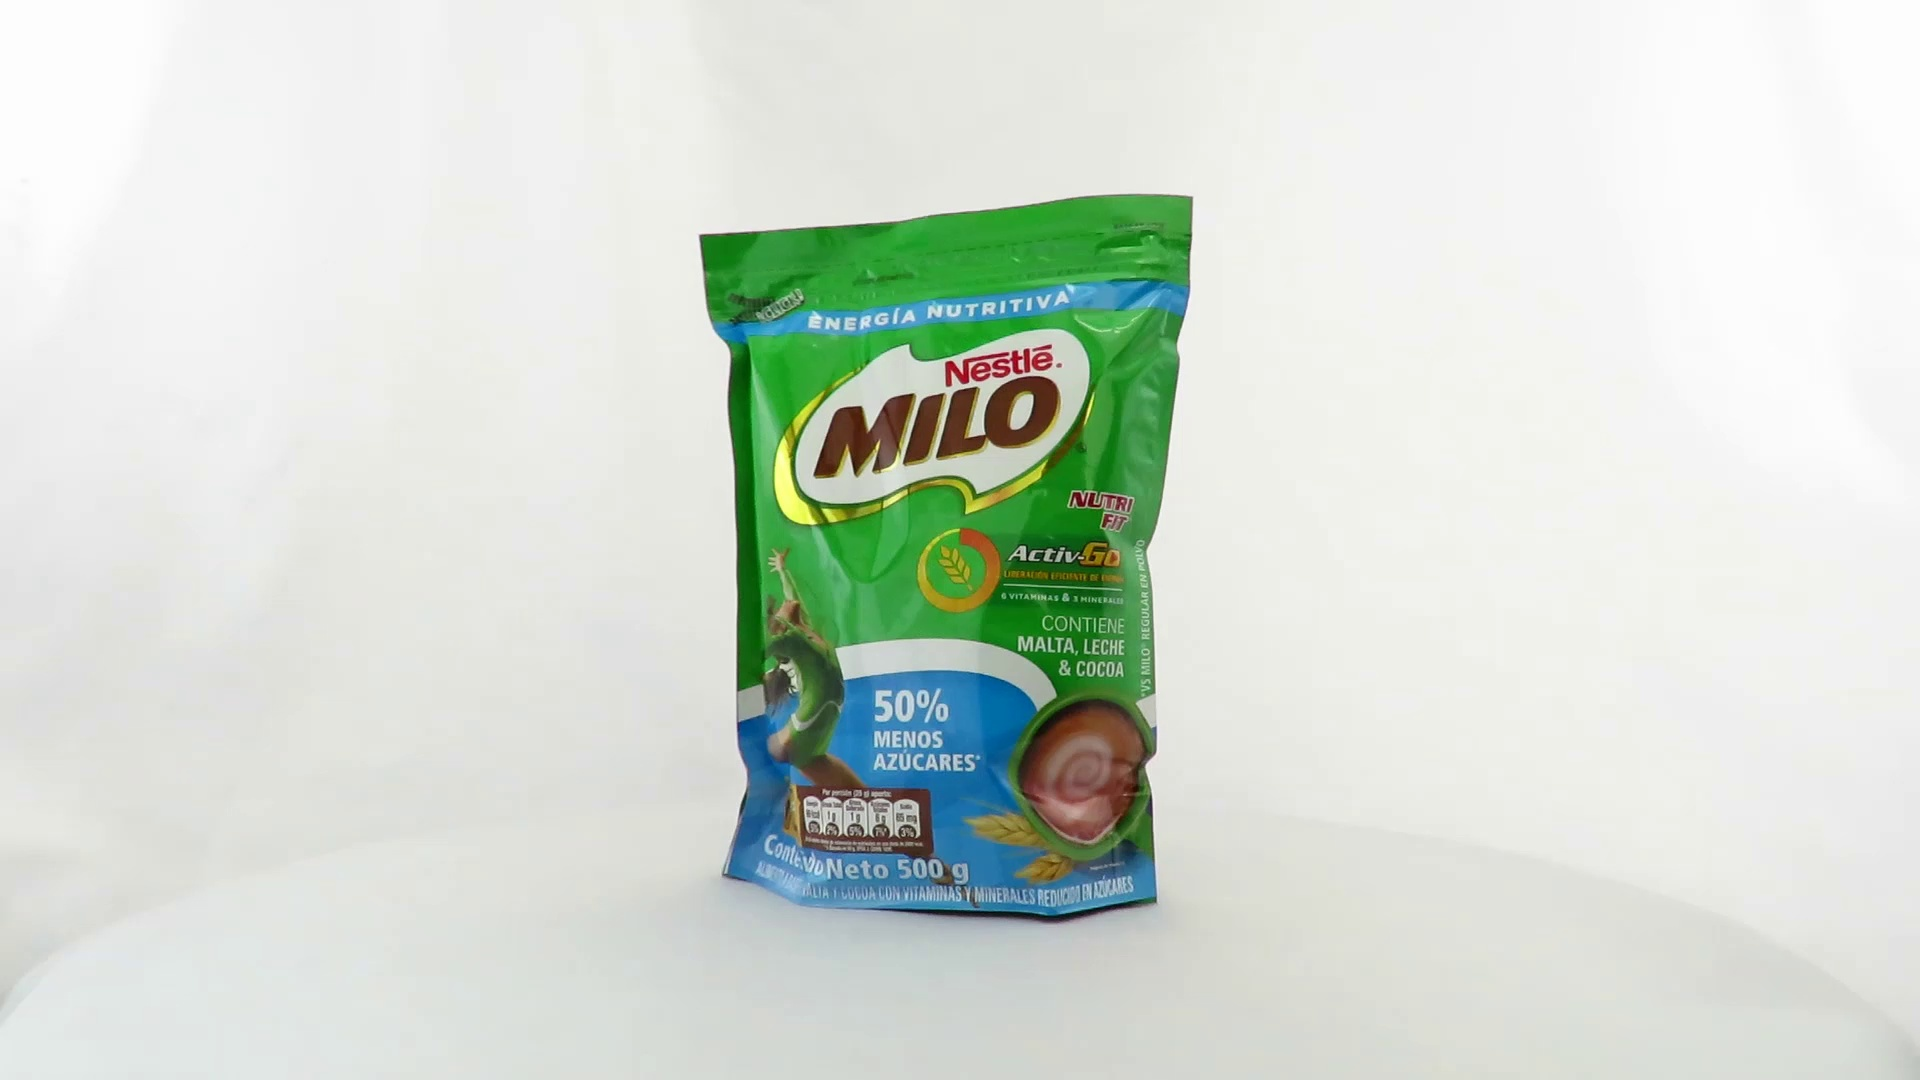COL0170205DYP50000: (694, 189, 1199, 930)
